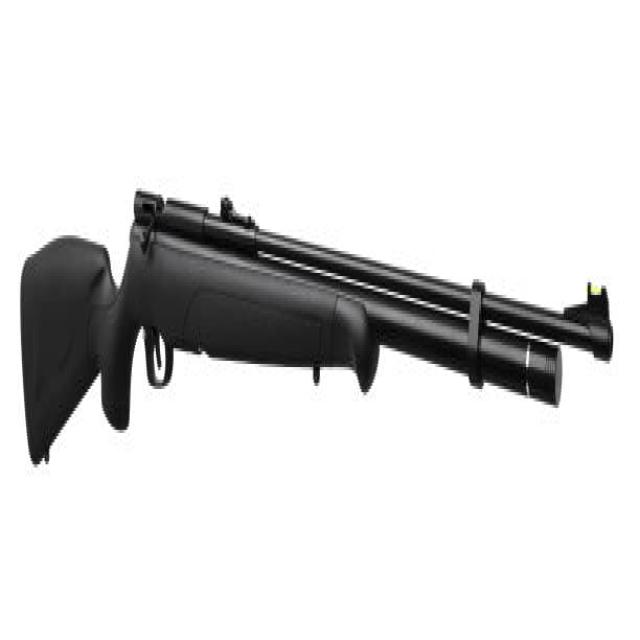rifle: (16, 188, 622, 479)
